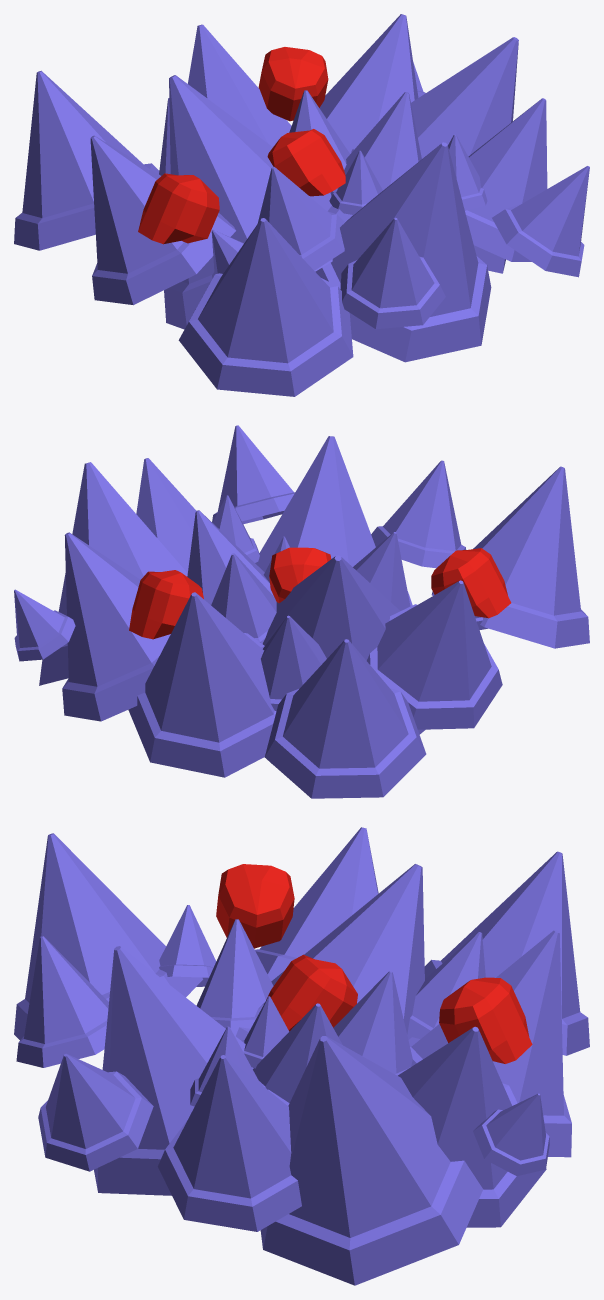
Rendered from SM_Pinchos01.fbx.
The picture shows the model from 3 angles, top to bottom: view 1: azimuth 30°, elevation 25°; view 2: azimuth 150°, elevation 25°; view 3: azimuth 270°, elevation 25°; orthographic projection. The views are drawn at different scales.
Visible parts, largest first — view 1: Cylinder.016, Cylinder.019, Cylinder.025, Cylinder.010, Cylinder.017, Cylinder.023, Cylinder.022, Cylinder.024, Cylinder.007, Cylinder.014, Cylinder.018, Cylinder.011 (+9 smaller); view 2: Cylinder.018, Cylinder.017, Cylinder.010, Cylinder.007, Cylinder.016, Cylinder.019, Cylinder.025, Cylinder.023, Cylinder.022, Cylinder.014, Cylinder.024, Cylinder.009 (+8 smaller); view 3: Cylinder.023, Cylinder.024, Cylinder.019, Cylinder.016, Cylinder.007, Cylinder.018, Cylinder.025, Cylinder.014, Cylinder.017, Cylinder.022, Cylinder.010, Cylinder.027 (+10 smaller).
Part boxes in pixels (<box>): Cylinder.016: <box>178,218,353,396</box>; Cylinder.019: <box>315,142,491,362</box>; Cylinder.025: <box>164,75,352,329</box>; Cylinder.010: <box>90,135,235,305</box>; Cylinder.017: <box>14,70,159,250</box>; Cylinder.023: <box>351,37,518,273</box>; Cylinder.022: <box>340,217,445,329</box>; Cylinder.024: <box>465,98,547,261</box>; Cylinder.007: <box>319,14,418,153</box>; Cylinder.014: <box>492,166,589,277</box>; Cylinder.018: <box>188,24,291,146</box>; Cylinder.011: <box>257,166,345,270</box>; Cylinder.018: <box>128,592,276,777</box>; Cylinder.017: <box>264,639,426,798</box>; Cylinder.010: <box>367,580,502,729</box>; Cylinder.007: <box>62,532,170,721</box>; Cylinder.016: <box>431,466,589,648</box>; Cylinder.019: <box>255,436,375,571</box>; Cylinder.025: <box>263,555,425,763</box>; Cylinder.023: <box>39,462,187,685</box>; Cylinder.022: <box>371,460,466,568</box>; Cylinder.014: <box>212,425,294,524</box>; Cylinder.024: <box>136,458,196,572</box>; Cylinder.009: <box>261,615,326,710</box>; Cylinder.023: <box>260,1036,483,1285</box>; Cylinder.024: <box>157,1055,301,1231</box>; Cylinder.019: <box>94,946,252,1195</box>; Cylinder.016: <box>14,833,202,1040</box>; Cylinder.007: <box>395,1026,546,1227</box>; Cylinder.018: <box>408,930,571,1157</box>; Cylinder.025: <box>236,864,424,1040</box>; Cylinder.014: <box>38,1053,153,1171</box>; Cylinder.017: <box>424,851,589,1055</box>; Cylinder.022: <box>16,936,108,1067</box>; Cylinder.010: <box>255,827,378,981</box>; Cylinder.027: <box>439,977,532,1063</box>.
Size of the model in its own units: 1000 by 522 by 1038.
